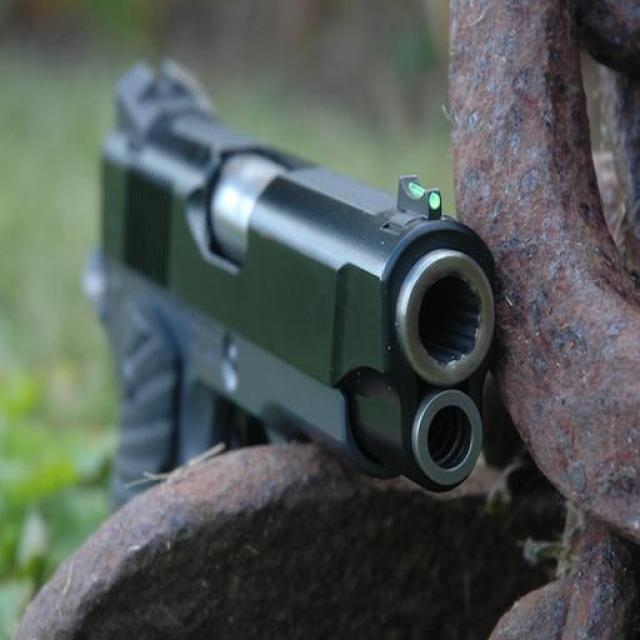pistol: (84, 52, 494, 502)
